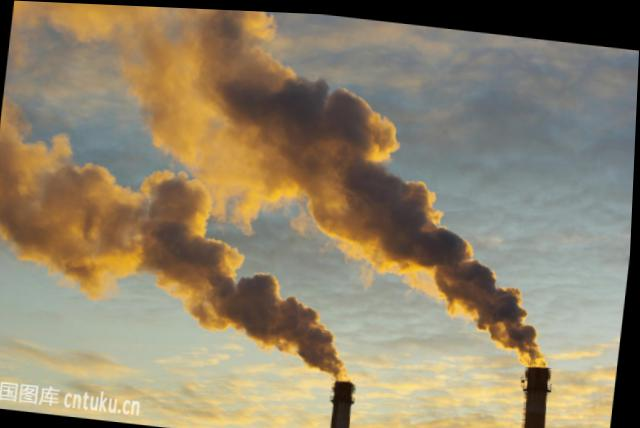smoke: (18, 213, 224, 281), (197, 71, 351, 159), (0, 165, 205, 229), (292, 158, 426, 220), (195, 263, 281, 321), (347, 96, 390, 170), (206, 7, 253, 73), (252, 298, 320, 343), (381, 218, 459, 253), (490, 292, 536, 341), (443, 258, 494, 291), (304, 328, 342, 363)
